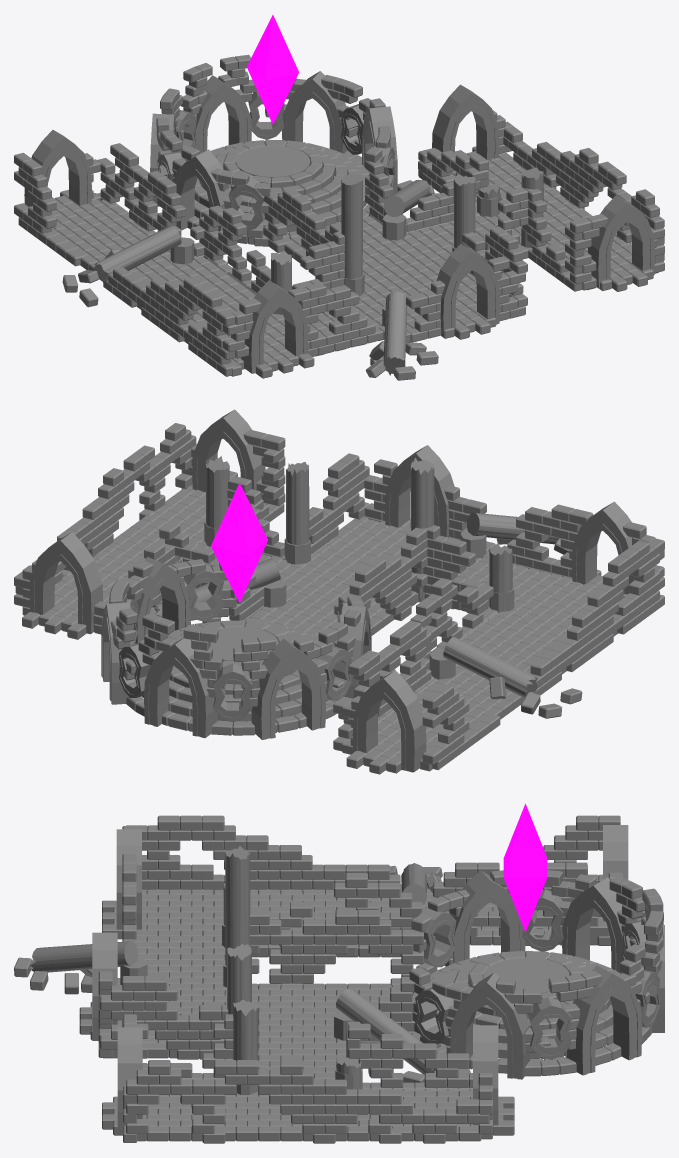
The model's file is Ruin.fbx.
The picture shows the model from 3 angles, top to bottom: view 1: azimuth 30°, elevation 25°; view 2: azimuth 150°, elevation 25°; view 3: azimuth 270°, elevation 25°; orthographic projection. The views are drawn at different scales.
Parts seen in each view (by area): view 1: Cube.007, Plane.009, Cube.002, Plane.006, Cube.001; view 2: Cube.007, Plane.009, Cube.002, Plane.006, Cube.001; view 3: Cube.007, Plane.009, Cube.002, Plane.006, Cube.001.
Boxes of the visible parts, bbox=[...] form: Cube.007: bbox=[14, 54, 664, 380]; Plane.009: bbox=[24, 71, 654, 373]; Cube.002: bbox=[94, 167, 543, 375]; Plane.006: bbox=[157, 90, 394, 230]; Cube.001: bbox=[247, 15, 298, 124]; Cube.007: bbox=[14, 423, 664, 774]; Plane.009: bbox=[29, 409, 634, 772]; Cube.002: bbox=[153, 456, 558, 697]; Plane.006: bbox=[119, 564, 351, 722]; Cube.001: bbox=[211, 483, 267, 602]; Cube.007: bbox=[14, 815, 663, 1143]; Plane.009: bbox=[92, 825, 664, 1135]; Cube.002: bbox=[29, 846, 435, 1094]; Plane.006: bbox=[415, 889, 660, 1059]; Cube.001: bbox=[503, 803, 547, 932].
Bounding box in the file's own units: 7551 × 3016 × 7723.
